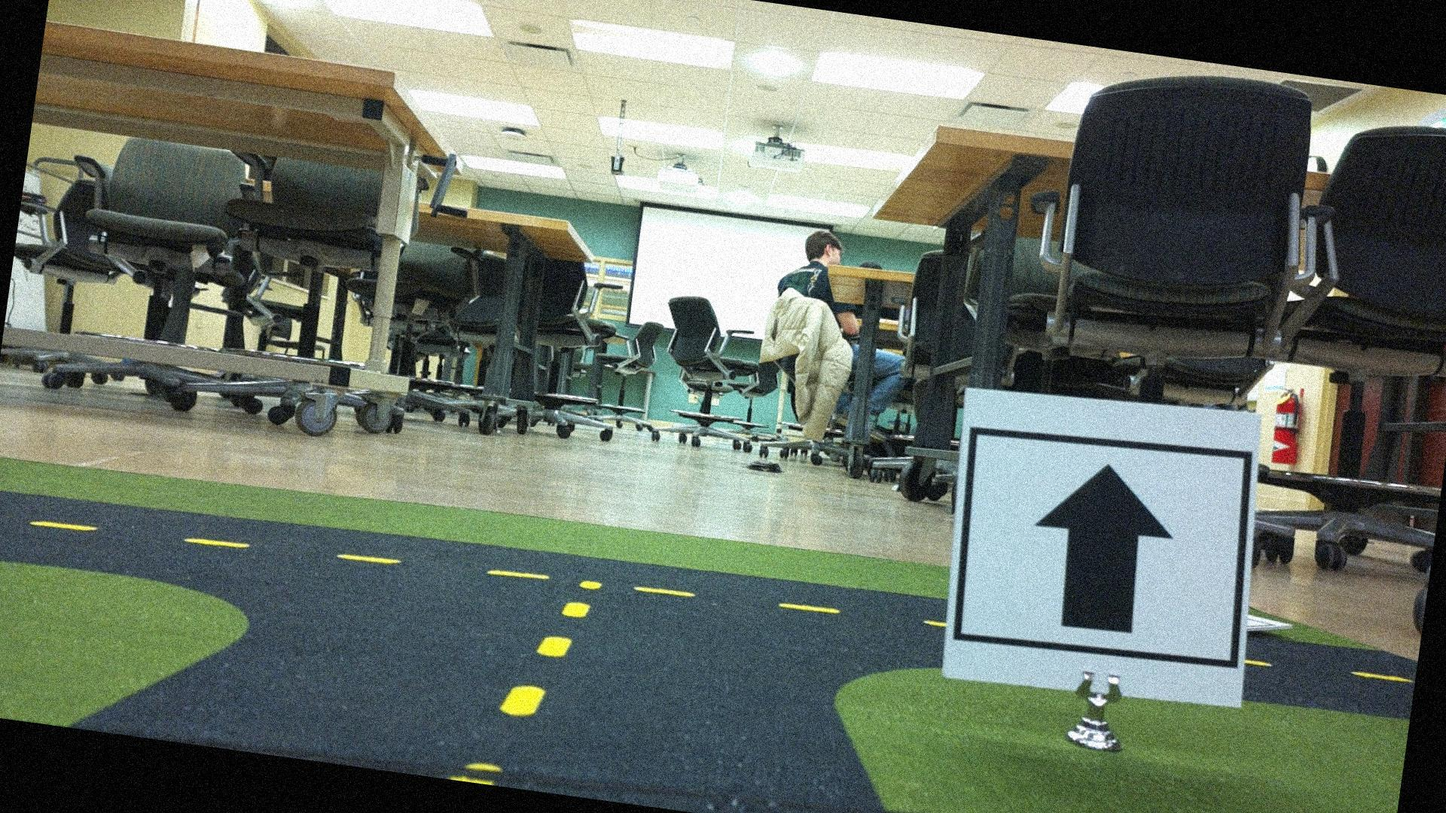gostraight: (942, 386, 1260, 702)
yellowline: (38, 495, 941, 647), (463, 566, 600, 796)
